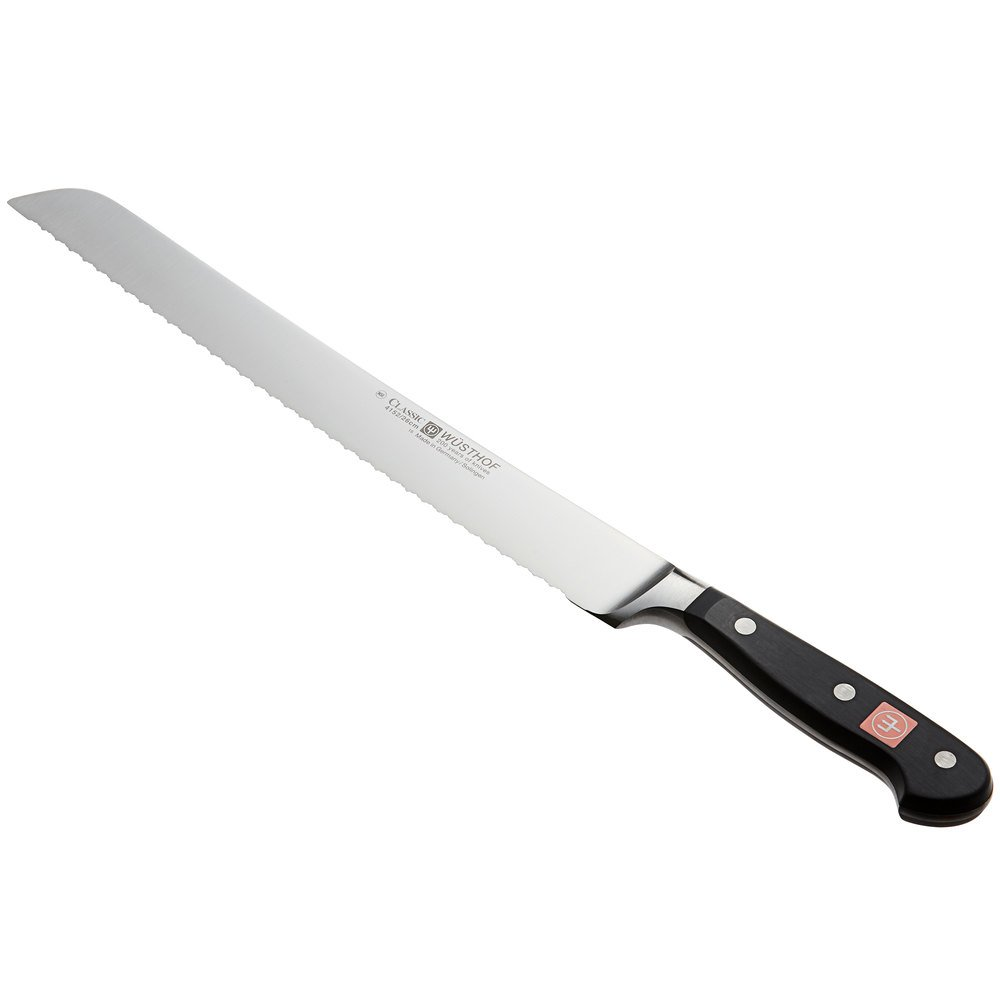knife: (7, 160, 1000, 864)
